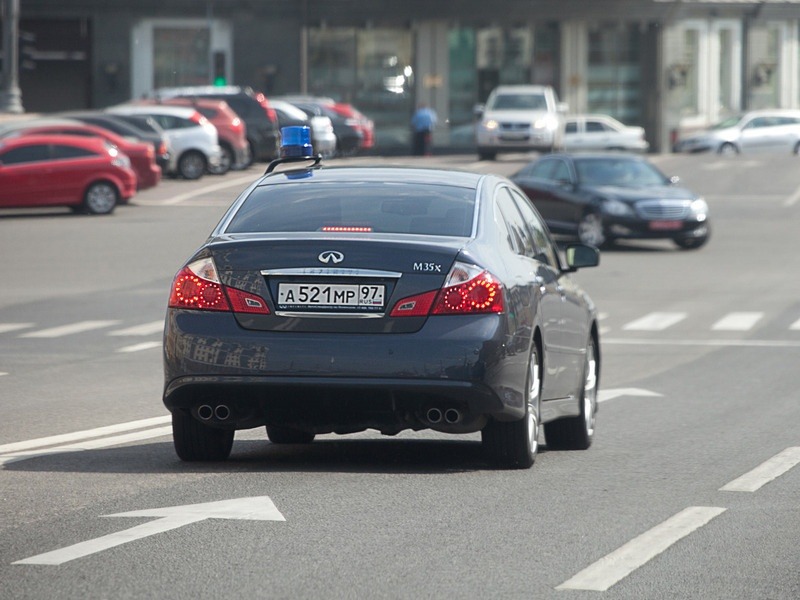car: (162, 165, 602, 465), (507, 155, 713, 249), (1, 134, 134, 216), (159, 85, 284, 164), (19, 125, 157, 194), (109, 106, 221, 177), (147, 99, 247, 173), (475, 84, 566, 158), (673, 111, 800, 154), (563, 115, 650, 154)
plate: (278, 284, 384, 305)
